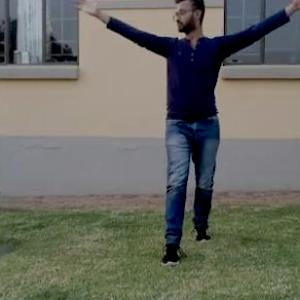takeoff: (163, 23, 298, 188)
